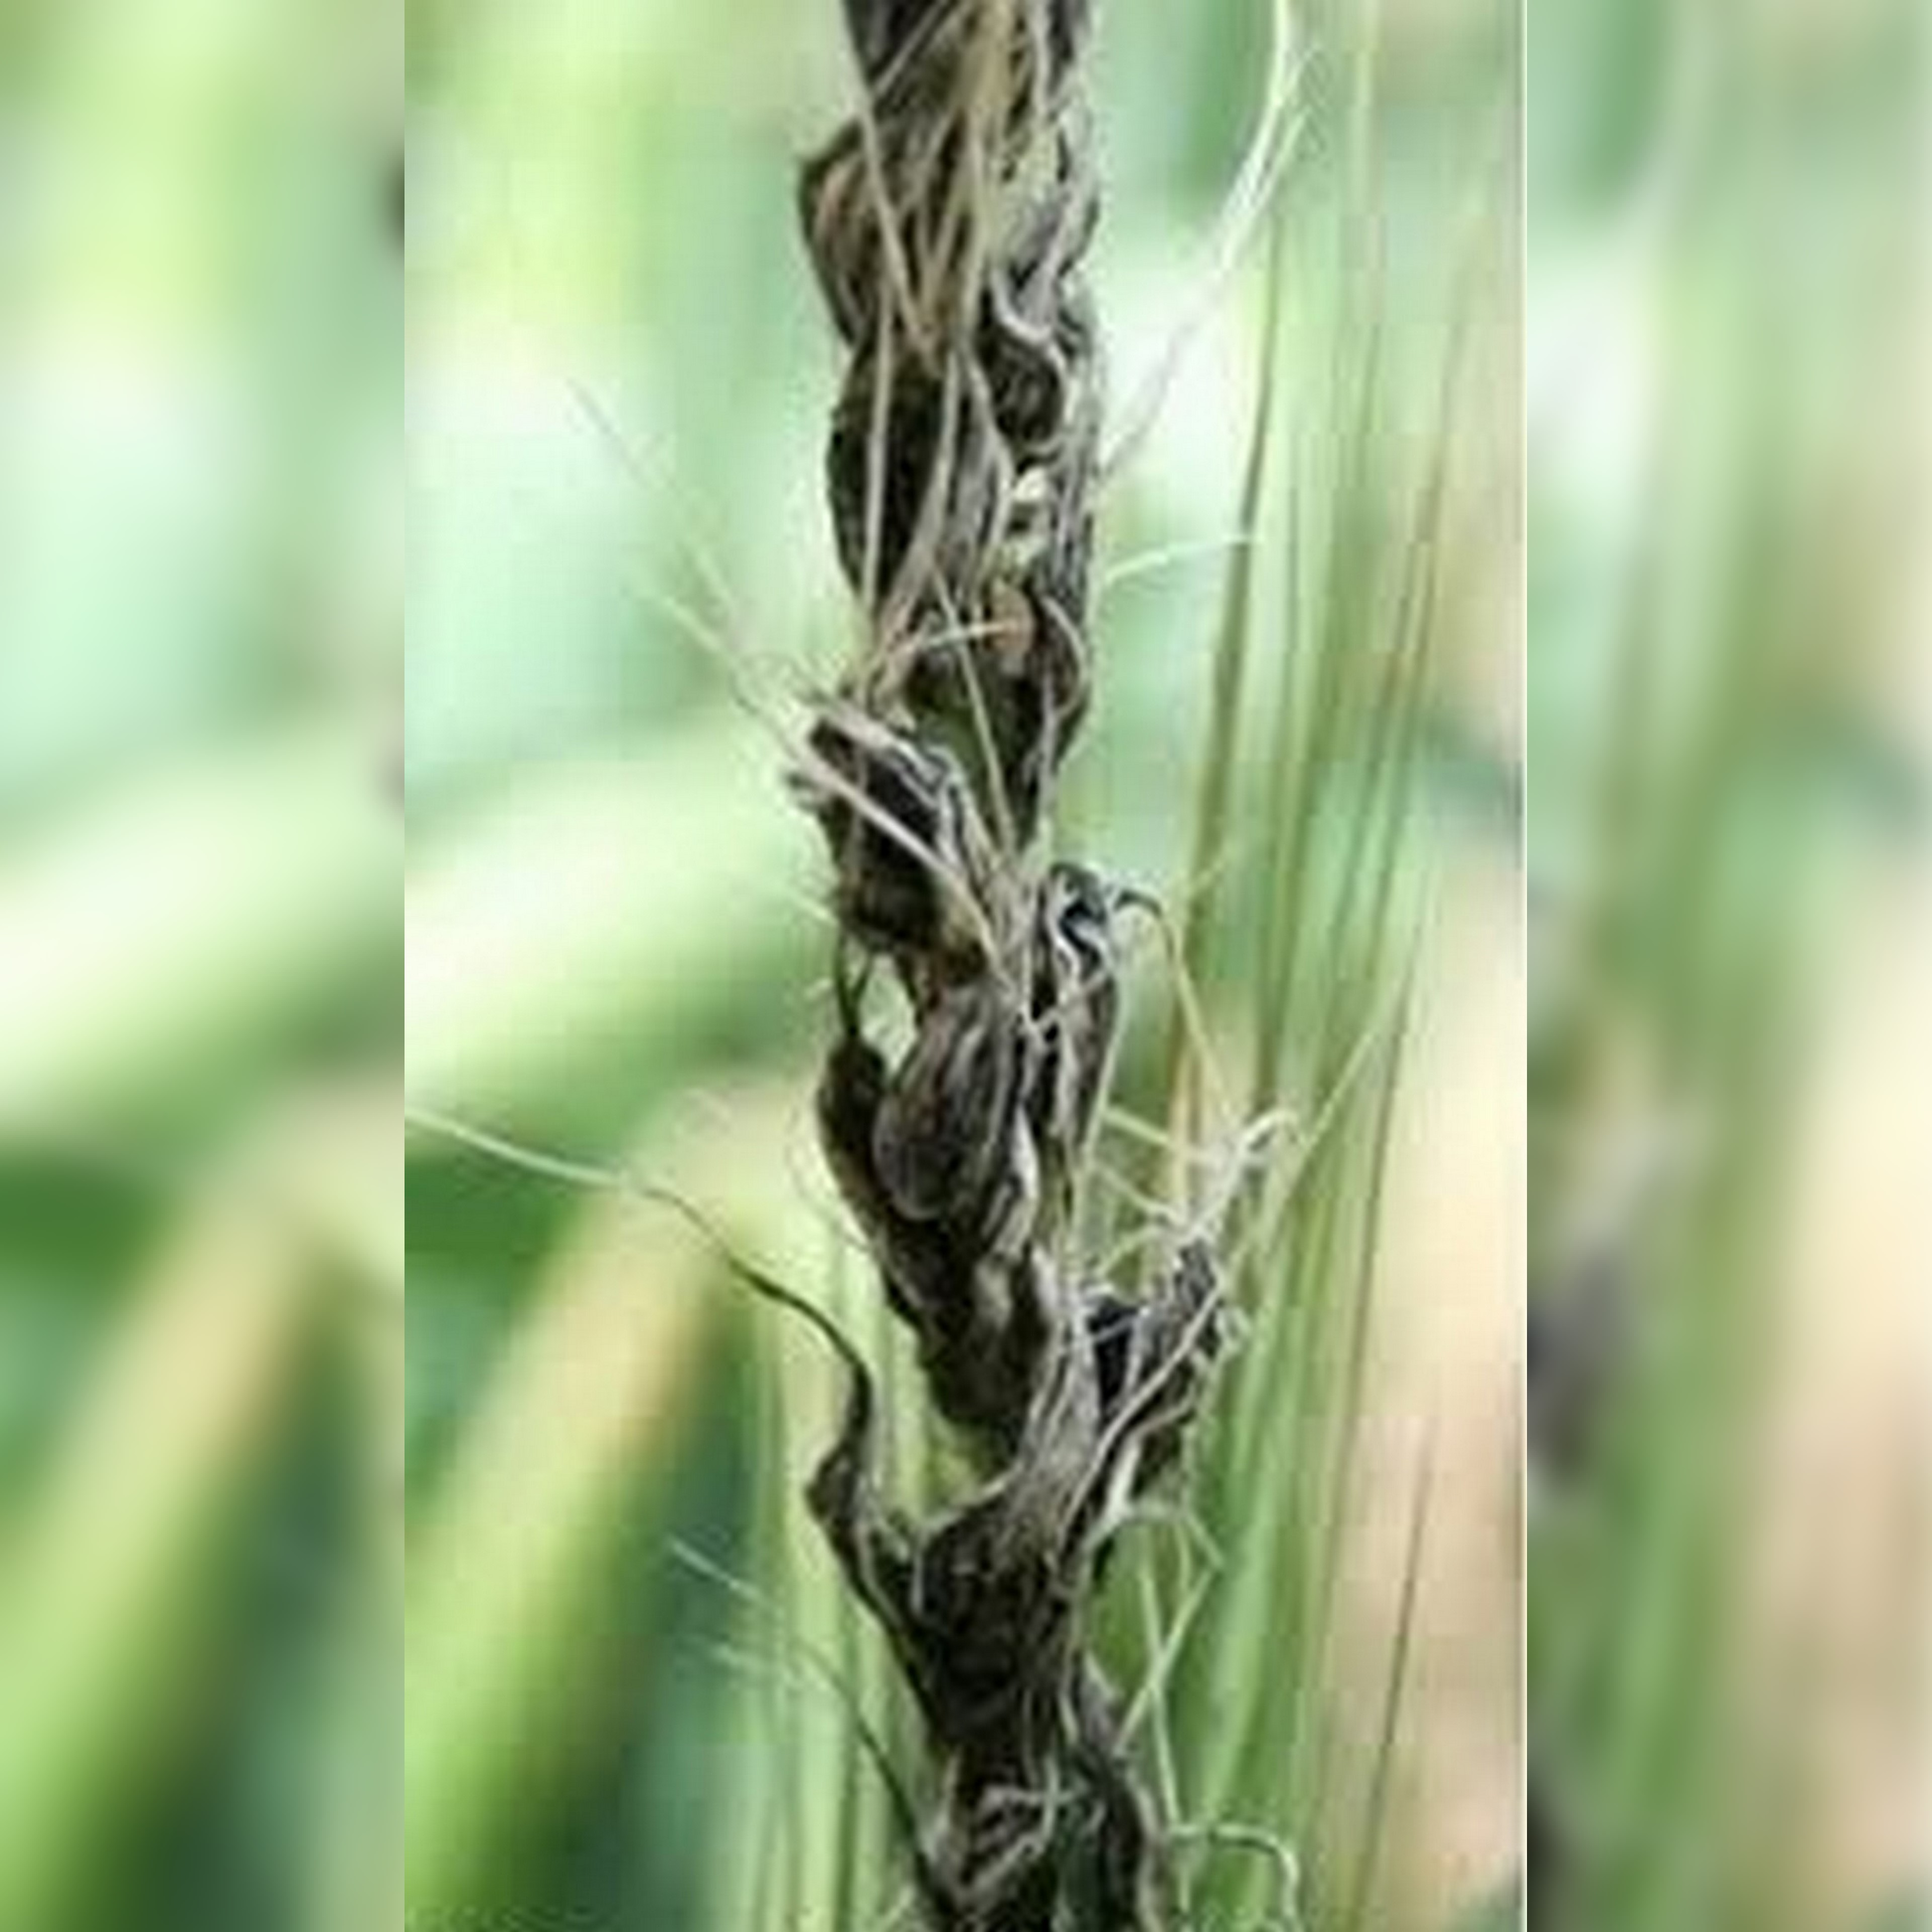Wheat Loose Smut: (718, 83, 1247, 1822)
